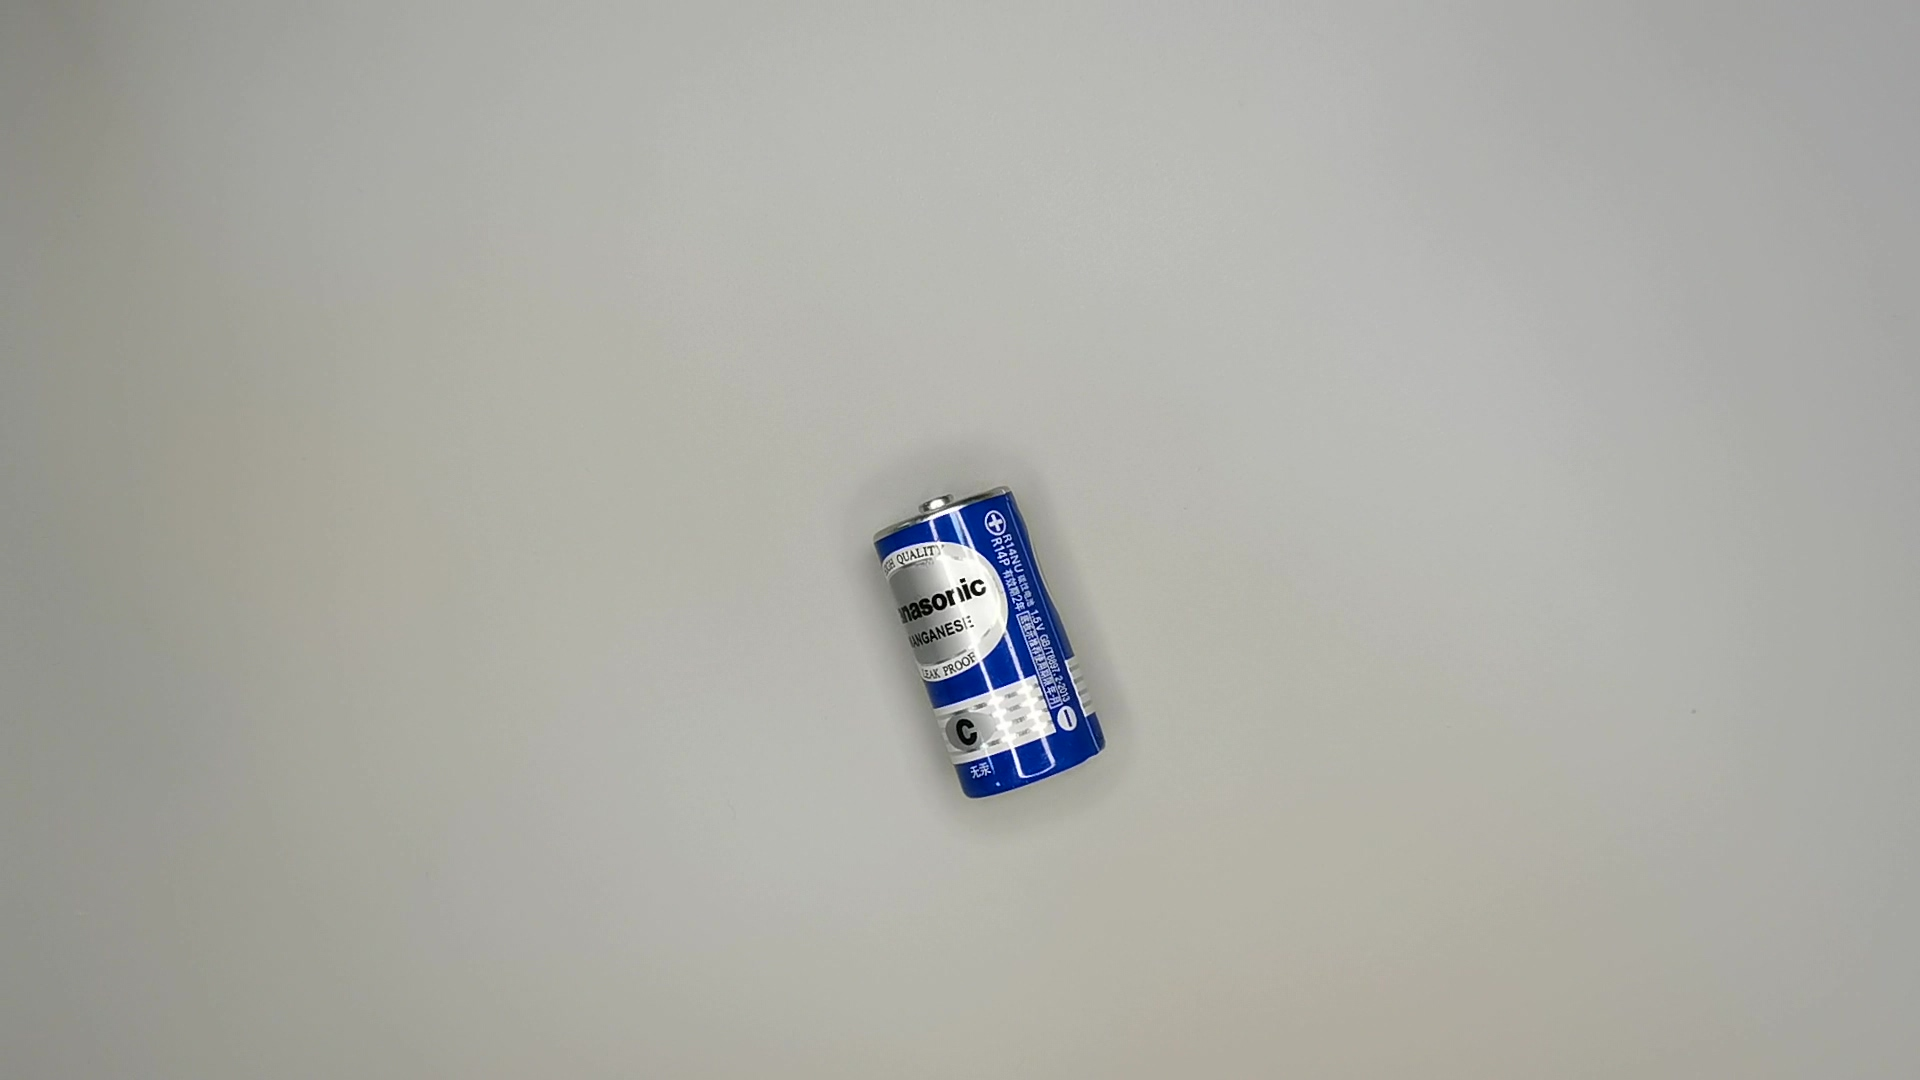battery: (872, 485, 1112, 800)
